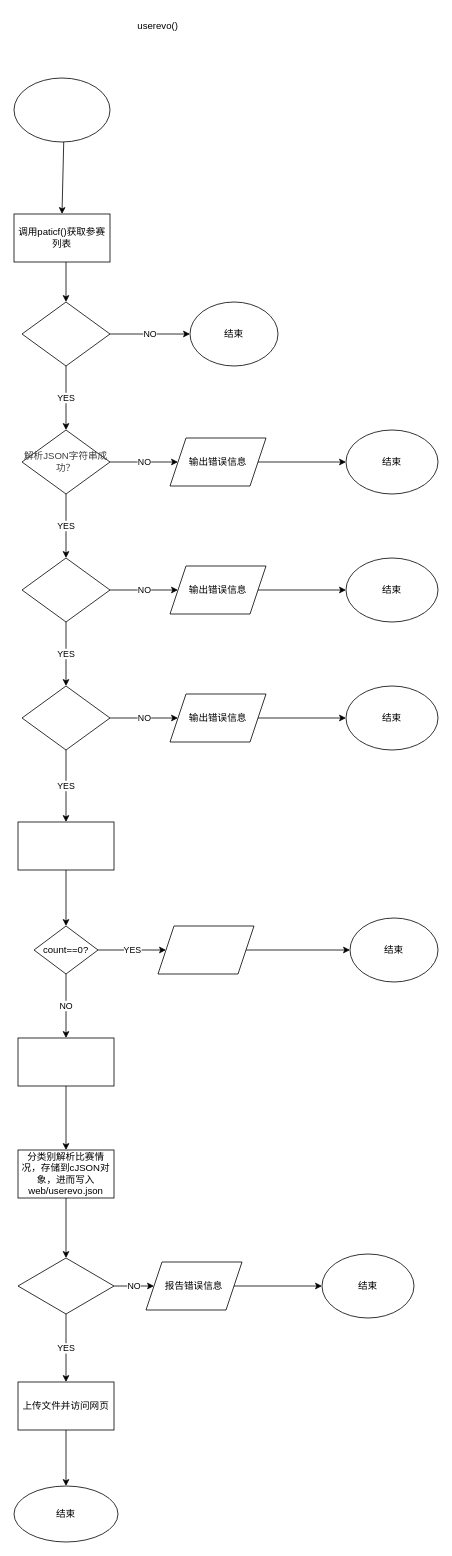
Some shapes in this 452 by 1556 pixel diagram are drawn without their labels. The shapes that lost their labels are listed below. From the top down, each one's centre as x and y in pixels, then its label:
[61,109]: 开始
[65,333]: 返回JSON字符串成功？
[65,589]: 判断请求状态是否OK
[65,717]: 判断JSON数据是不是比赛数组格式
[65,845]: 计算参赛数量count
[205,949]: 输出信息并释放内存
[65,1061]: 调用getconteststandings()获取比赛详情
[65,1285]: 写入文件成功？
